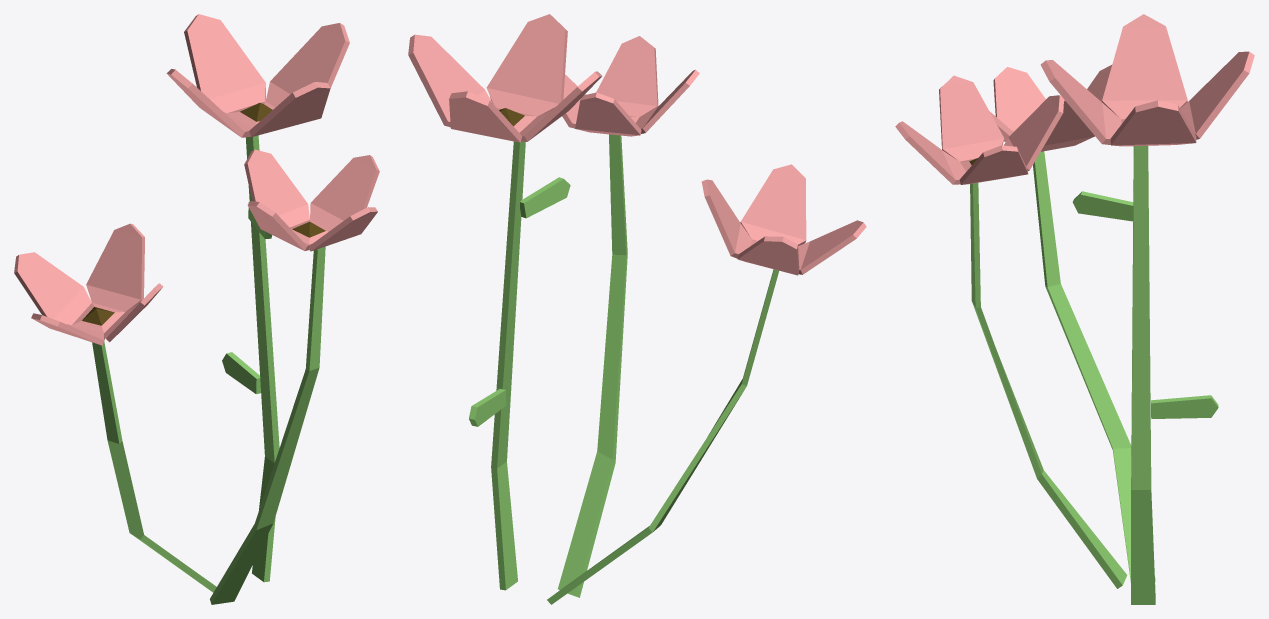
Rendered from flower.obj.
The picture shows the model from 3 angles, left to right: view 1: azimuth 30°, elevation 25°; view 2: azimuth 150°, elevation 25°; view 3: azimuth 270°, elevation 25°; orthographic projection. The views are drawn at different scales.
Bounding box in the file's own units: 224 × 302 × 179.
